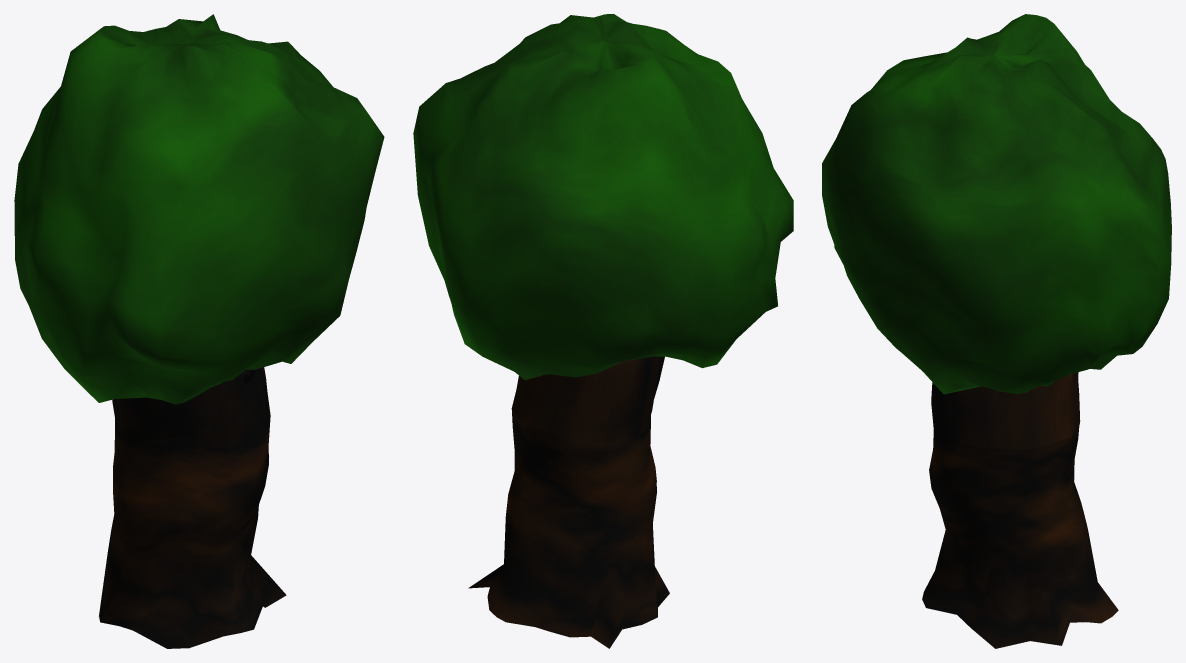
The model's file is Tree.FBX.
3 renders of one model, left to right at view 1: azimuth 30°, elevation 25°; view 2: azimuth 150°, elevation 25°; view 3: azimuth 270°, elevation 25°, orthographic. The views are drawn at different scales.
Visible parts, largest first — view 1: Sphere01, Cylinder01; view 2: Sphere01, Cylinder01; view 3: Sphere01, Cylinder01.
Part boxes in pixels (x1,y1,x2,y2): Sphere01: (14, 14, 384, 404); Cylinder01: (99, 367, 286, 648); Sphere01: (413, 14, 793, 380); Cylinder01: (468, 356, 669, 648); Sphere01: (822, 14, 1171, 394); Cylinder01: (922, 372, 1118, 648).
Size of the model in its own units: 14.32 by 25.38 by 14.02.
Materials: 2 (2 with a texture image).
